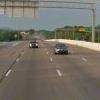Car: (46, 38, 77, 60)
